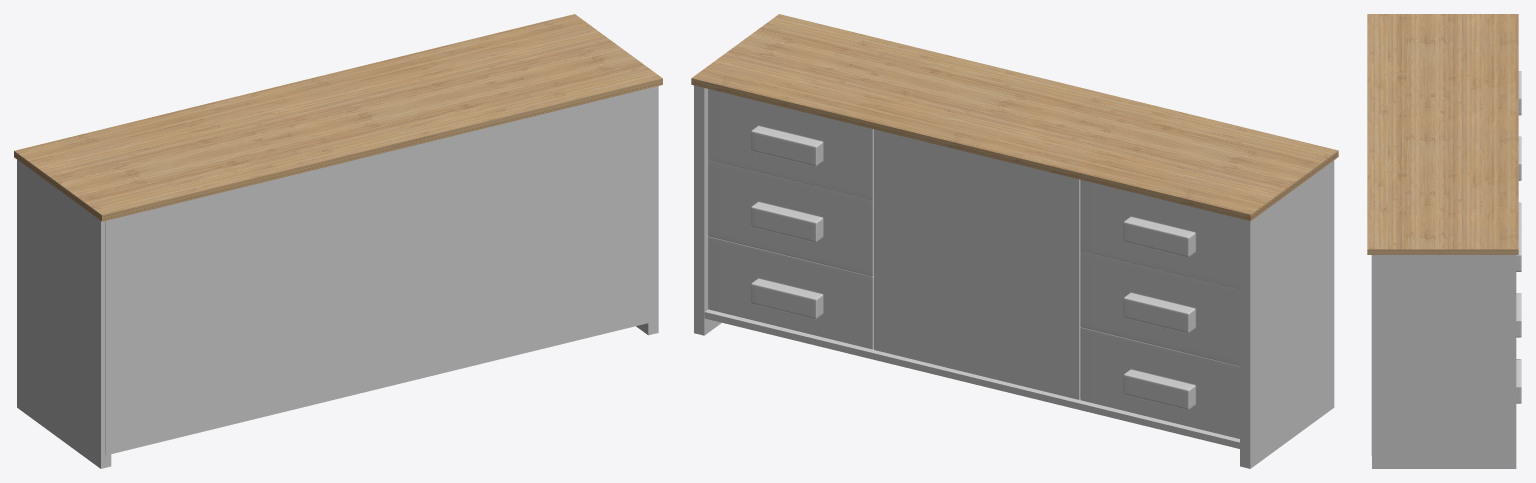
Rendered from bathroomfurniture02.fbx.
The picture shows the model from 3 angles, left to right: view 1: azimuth 30°, elevation 25°; view 2: azimuth 150°, elevation 25°; view 3: azimuth 270°, elevation 25°; orthographic projection. The views are drawn at different scales.
Visible parts, largest first — view 1: pCube430; view 2: pCube430; view 3: pCube430.
Part boxes in pixels (<box>): pCube430: <box>14,14,662,468</box>; pCube430: <box>691,14,1338,468</box>; pCube430: <box>1367,14,1521,468</box>.
Bounding box in the file's own units: 20.7 × 9.03 × 5.74.
Materials: 2 (1 with a texture image).
